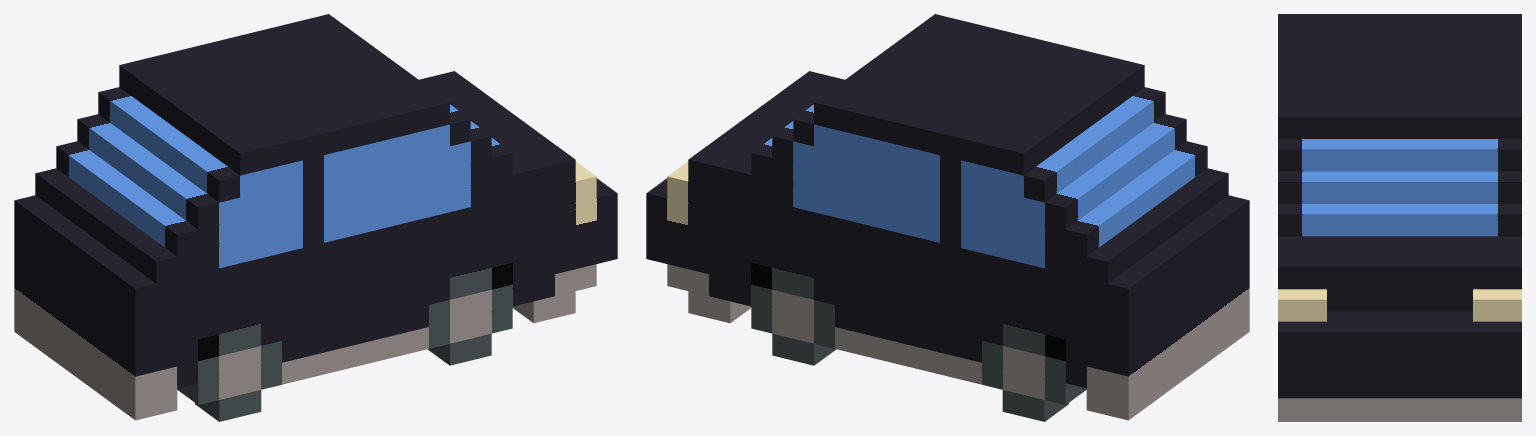
The model's file is car.glb.
The picture shows the model from 3 angles, left to right: view 1: azimuth 30°, elevation 25°; view 2: azimuth 150°, elevation 25°; view 3: azimuth 270°, elevation 25°; orthographic projection.
Parts seen in each view (by area): view 1: Oren_1111; view 2: Oren_1111; view 3: Oren_1111.
Part boxes in pixels (box(x1,y1,x2,y2)): Oren_1111: box(14, 14, 617, 421); Oren_1111: box(646, 14, 1249, 421); Oren_1111: box(1278, 14, 1521, 421).
Size of the model in its own units: 0.69 by 0.36 by 0.3.
Materials: 1 (1 with a texture image).
